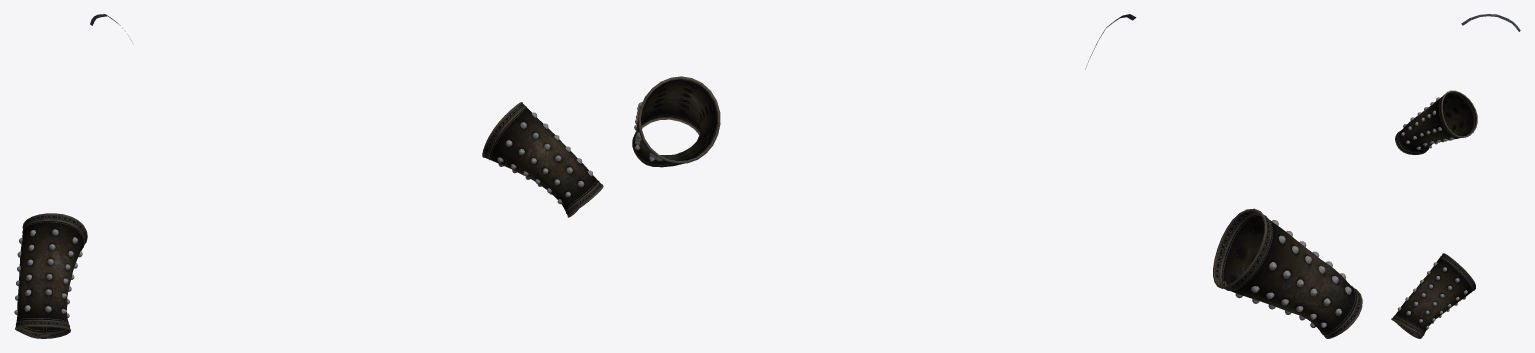
The model's file is hand gloves.fbx.
The picture shows the model from 3 angles, left to right: view 1: azimuth 30°, elevation 25°; view 2: azimuth 150°, elevation 25°; view 3: azimuth 270°, elevation 25°; orthographic projection. The views are drawn at different scales.
Parts seen in each view (by area): view 1: hand_goloves; view 2: hand_goloves; view 3: hand_goloves.
Part boxes in pixels (x1,y1,x2,y2): hand_goloves: (14,14,603,338); hand_goloves: (632,14,1362,338); hand_goloves: (1391,14,1520,338).
Bounding box in the file's own units: 98.73 × 41.79 × 27.05.
